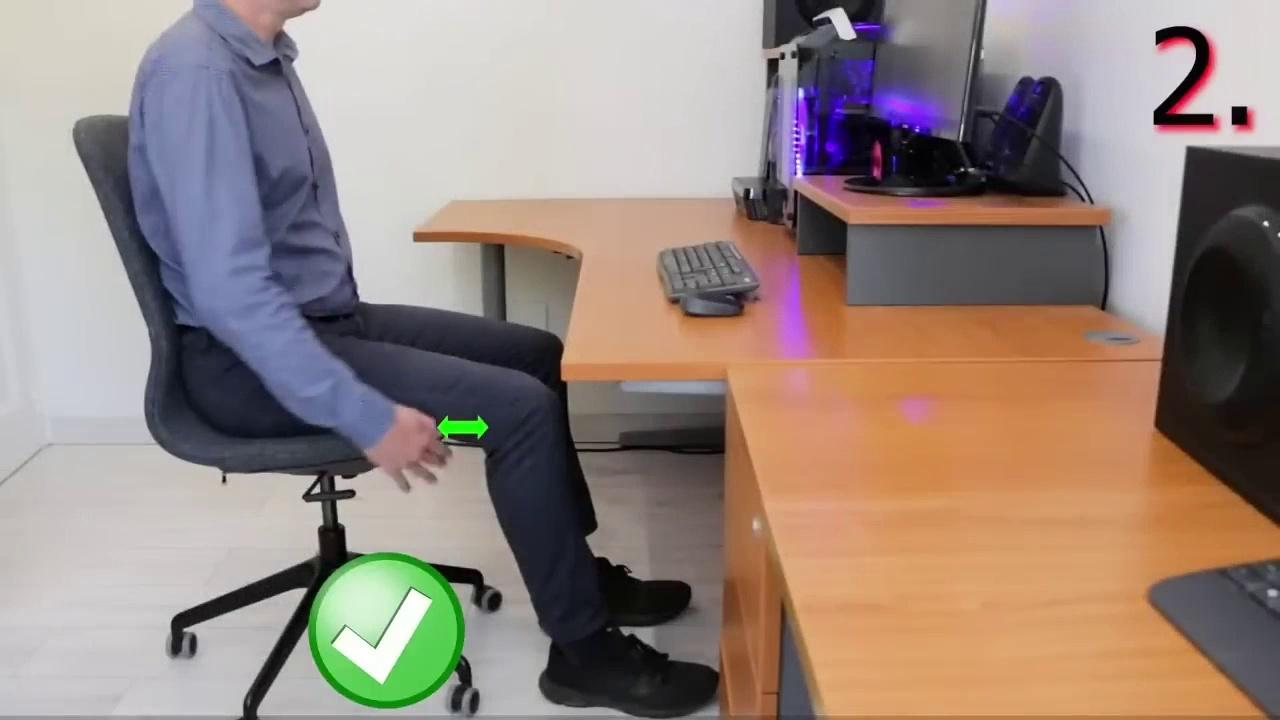GoodPosture: (129, 0, 718, 717)
